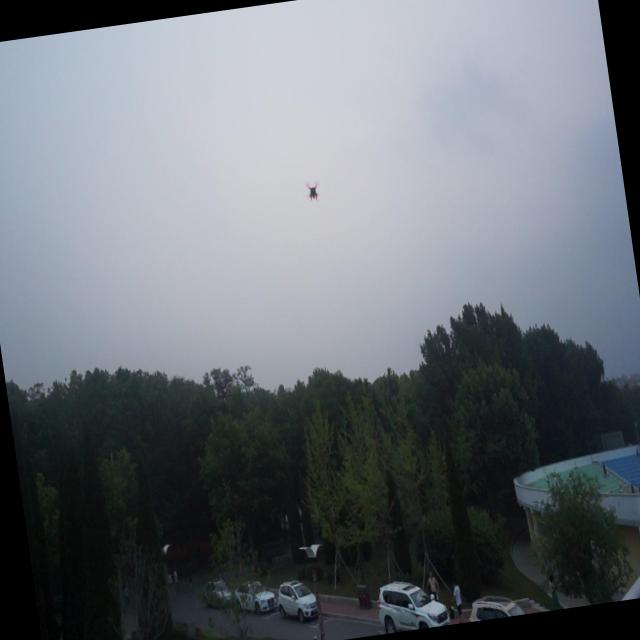drone: (305, 178, 321, 206)
